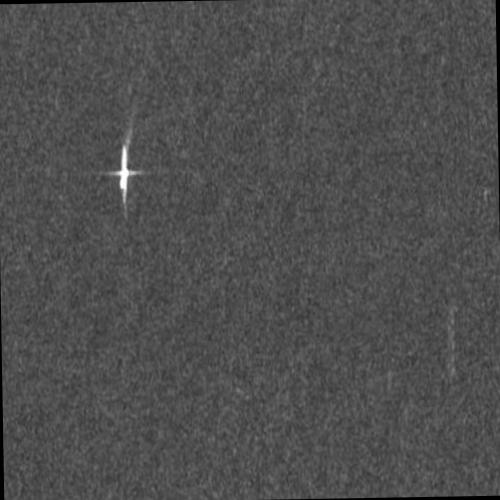ship: (119, 144, 129, 192)
